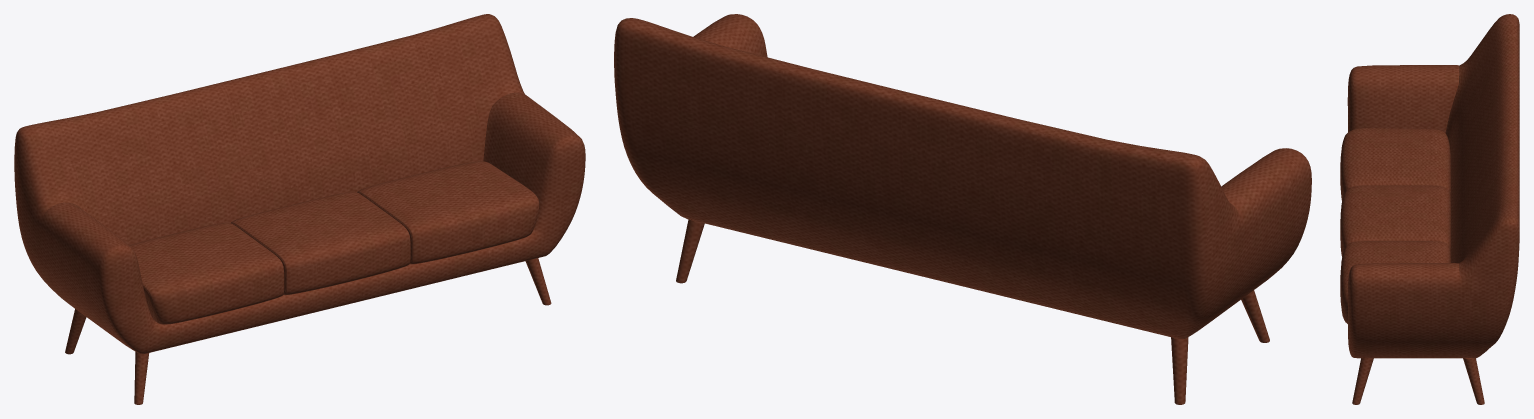
Rendered from orange.glb.
The picture shows the model from 3 angles, left to right: view 1: azimuth 30°, elevation 25°; view 2: azimuth 150°, elevation 25°; view 3: azimuth 270°, elevation 25°; orthographic projection. The views are drawn at different scales.
Parts seen in each view (by area): view 1: sofa_mesh_n3d, pillow_003_mesh_n3d, pillow_001_mesh_n3d, pillow_002_mesh_n3d, base_003_mesh_n3d, base_001_mesh_n3d; view 2: sofa_mesh_n3d, base_004_mesh_n3d, base_002_mesh_n3d, base_003_mesh_n3d; view 3: sofa_mesh_n3d, pillow_002_mesh_n3d, pillow_001_mesh_n3d, pillow_003_mesh_n3d, base_002_mesh_n3d, base_001_mesh_n3d.
Part boxes in pixels (box(x1,y1,x2,y2)): sofa_mesh_n3d: box(14, 14, 585, 354); pillow_003_mesh_n3d: box(357, 161, 539, 264); pillow_001_mesh_n3d: box(231, 192, 410, 295); pillow_002_mesh_n3d: box(129, 222, 284, 324); base_003_mesh_n3d: box(134, 351, 149, 404); base_001_mesh_n3d: box(525, 258, 551, 305); sofa_mesh_n3d: box(614, 14, 1311, 339); base_004_mesh_n3d: box(1171, 337, 1188, 404); base_002_mesh_n3d: box(676, 219, 704, 283); base_003_mesh_n3d: box(1241, 290, 1269, 342); sofa_mesh_n3d: box(1347, 14, 1519, 358); pillow_002_mesh_n3d: box(1340, 128, 1450, 200); pillow_001_mesh_n3d: box(1340, 185, 1450, 257); pillow_003_mesh_n3d: box(1340, 241, 1450, 323); base_002_mesh_n3d: box(1463, 358, 1484, 404); base_001_mesh_n3d: box(1352, 358, 1373, 404).
Bounding box in the file's own units: 2.39 × 1.03 × 0.8453.
Materials: 1 (1 with a texture image).
